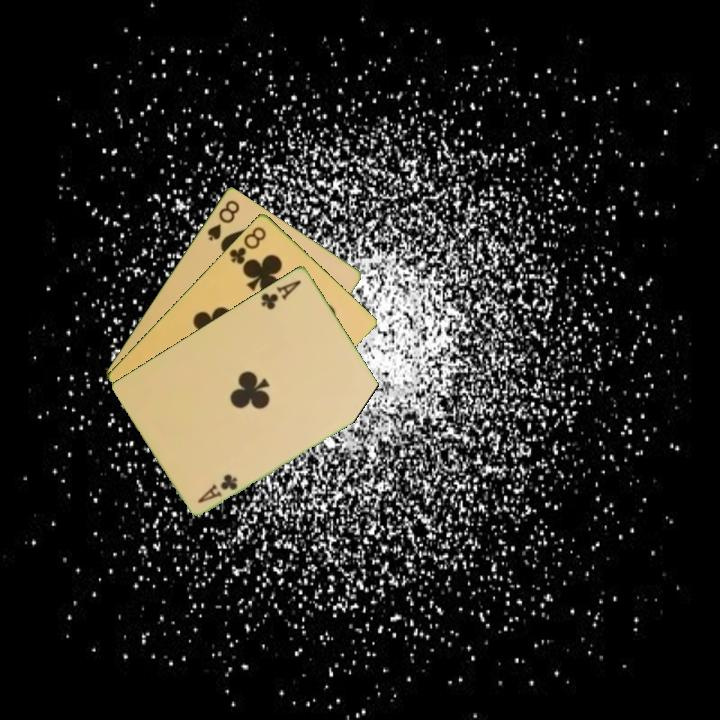8c: (226, 223, 269, 267)
8s: (203, 196, 242, 244)
Ac: (257, 276, 304, 312), (194, 470, 241, 506)
